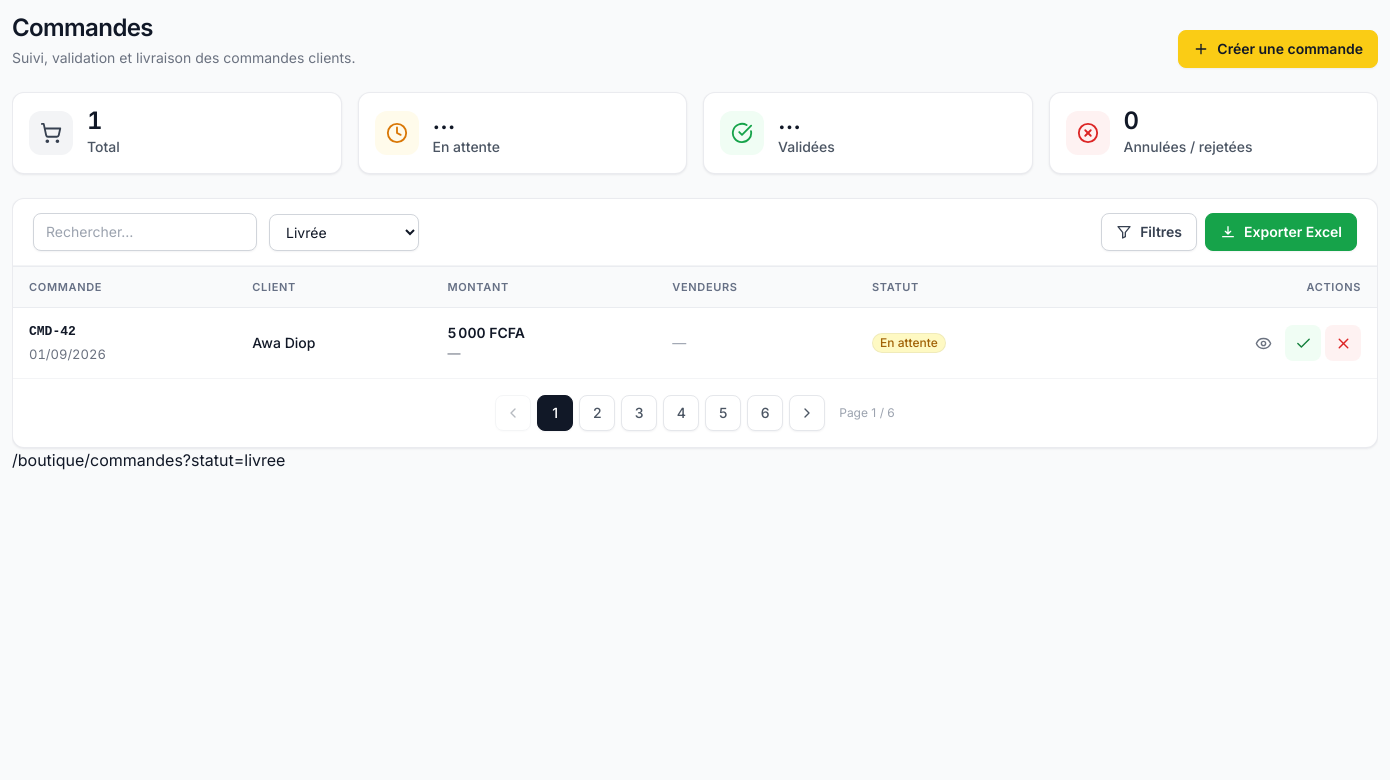
Test: Commandes : navigation Retour et contexte de liste › liste → « Créer une commande » ouvre la page de création (et non un détail « nouveau »)
This screenshot has width=1390, height=780.
Expected: the text "CMD-42" is shown, [29,324,76,339]
Click the button "Créer une commande" at {"x": 1278, "y": 49}, box [1178,30,1378,68]
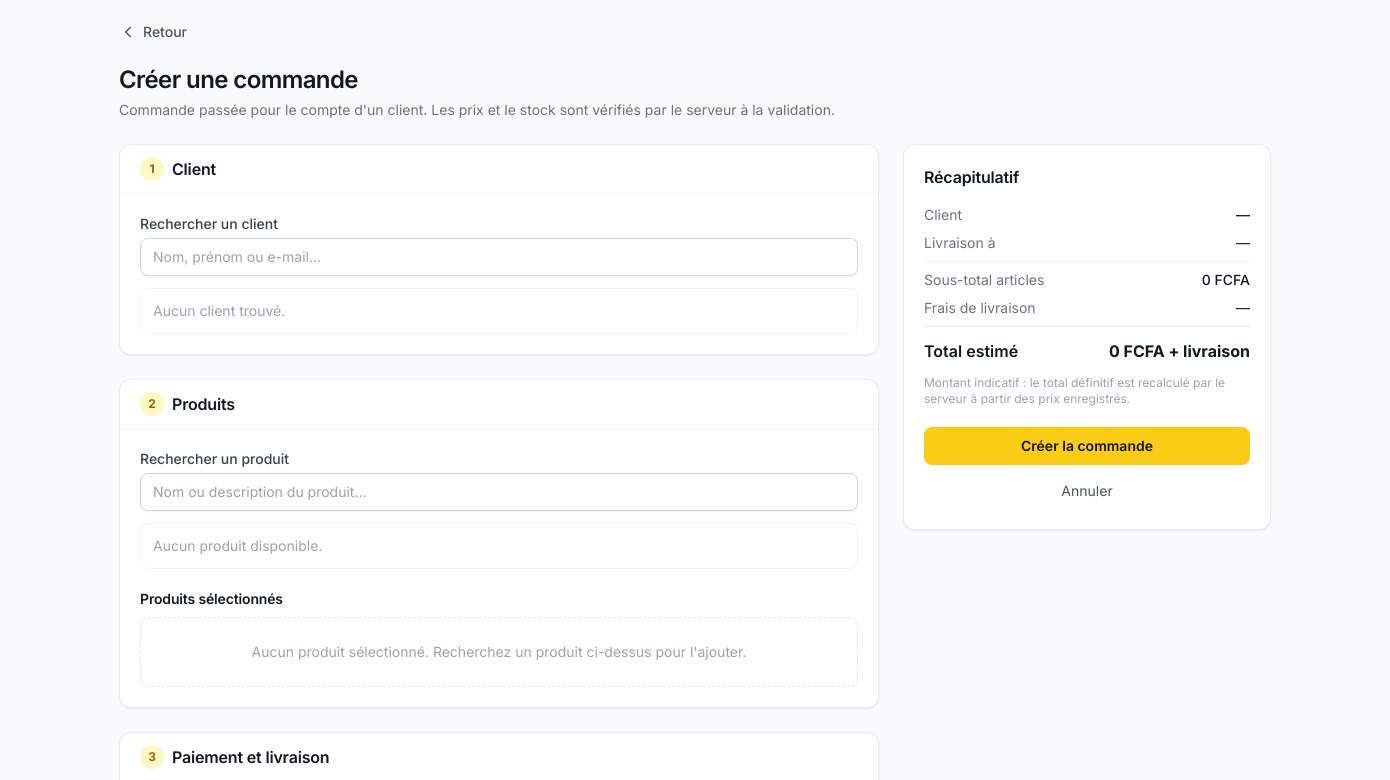
Result: the heading "Créer une commande" is shown at [119,65,358,94]
Formulaire vierge : Retour sans confirmation, liste filtrée restituée.
Click the button "Retour" at {"x": 153, "y": 32}, box [113,12,193,52]
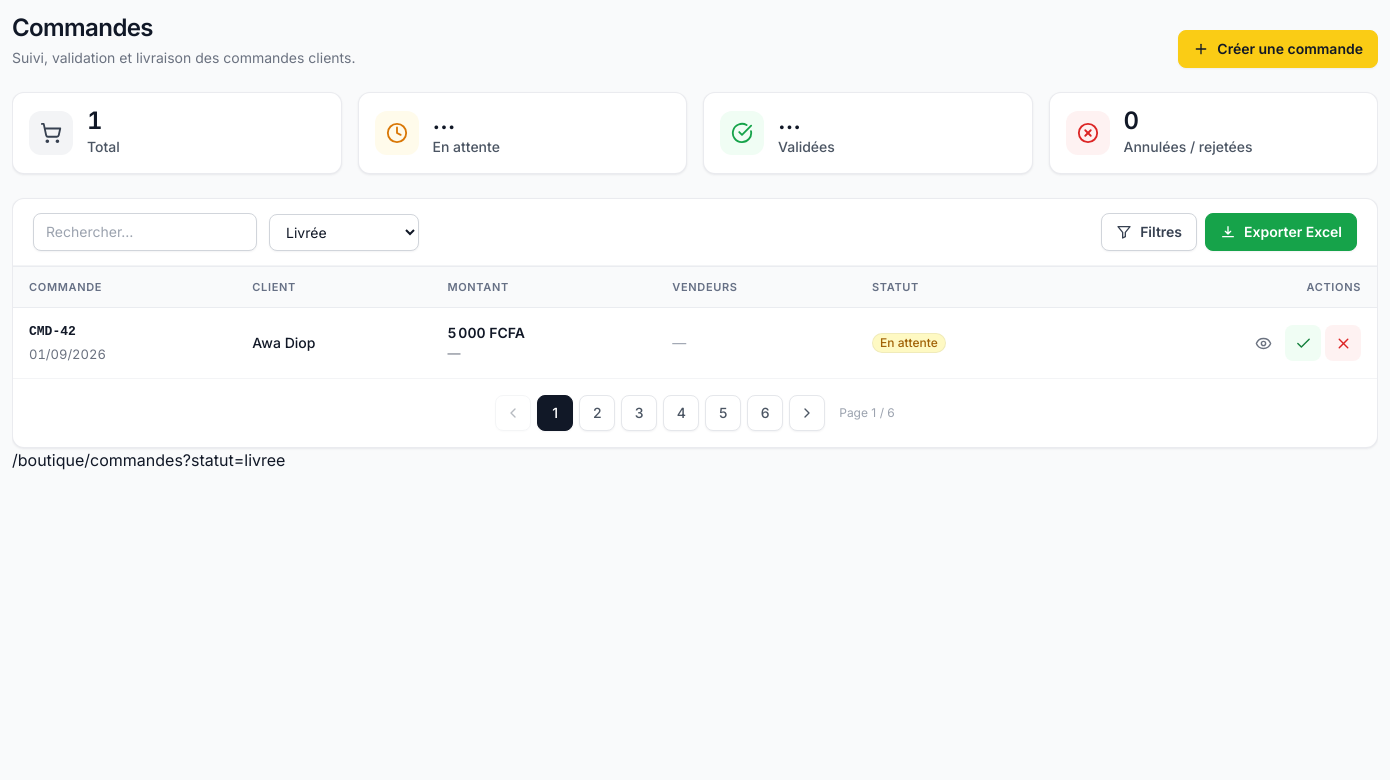
Result: the text with test id "adresse" reads "/boutique/commandes?statut=livree" at [12,450,286,470]
